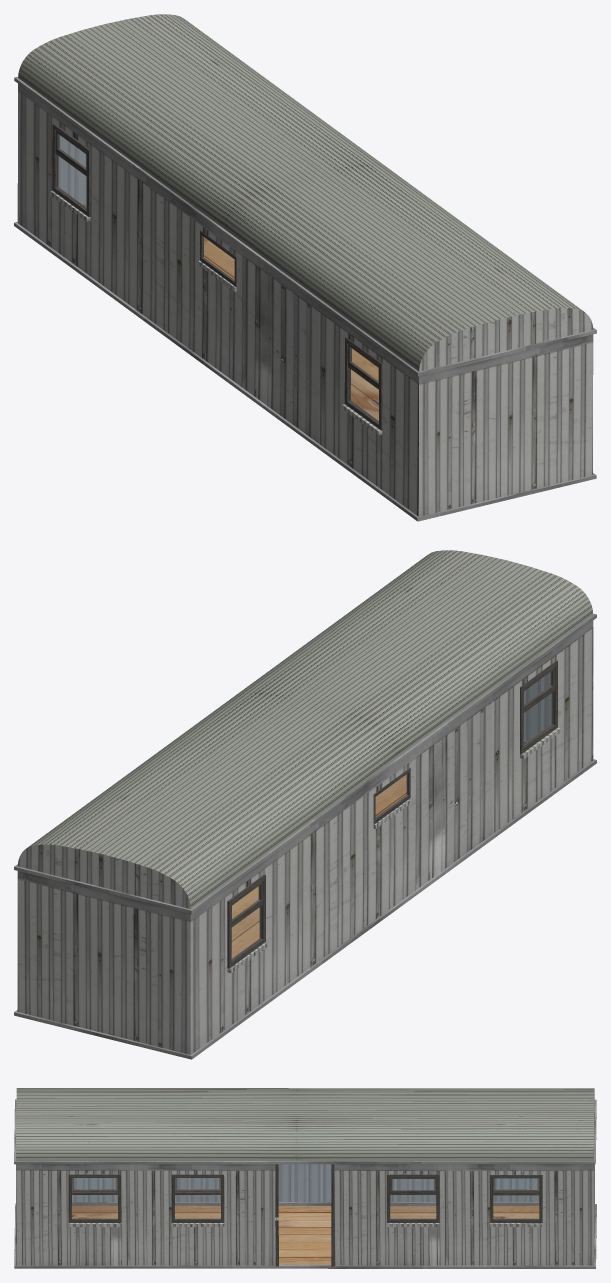
Rendered from CargoHouse04.FBX.
The picture shows the model from 3 angles, top to bottom: view 1: azimuth 30°, elevation 25°; view 2: azimuth 150°, elevation 25°; view 3: azimuth 270°, elevation 25°; orthographic projection. The views are drawn at different scales.
Visible parts, largest first — view 1: CargoHouse04; view 2: CargoHouse04; view 3: CargoHouse04.
Part boxes in pixels (x1,y1,x2,y2): CargoHouse04: (14,14,596,521); CargoHouse04: (14,550,596,1059); CargoHouse04: (14,1088,596,1268).
Bounding box in the file's own units: 128 × 119 × 482.
